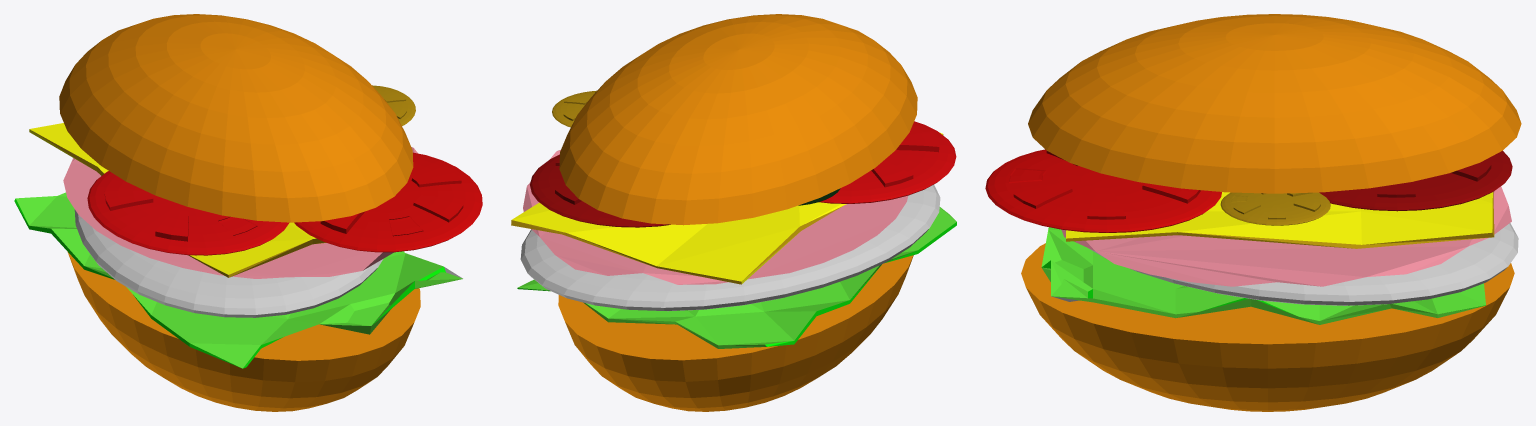
The model's file is culito.obj.
3 renders of one model, left to right at view 1: azimuth 30°, elevation 25°; view 2: azimuth 150°, elevation 25°; view 3: azimuth 270°, elevation 25°, orthographic. The views are drawn at different scales.
Visible parts, largest first — view 1: skp28D7-Entity43860; view 2: skp28D7-Entity43860; view 3: skp28D7-Entity43860.
Part boxes in pixels (x1,y1,x2,y2): skp28D7-Entity43860: [14, 14, 482, 411]; skp28D7-Entity43860: [511, 14, 956, 411]; skp28D7-Entity43860: [985, 14, 1521, 411].
Bounding box in the file's own units: 2.17 × 2.01 × 2.72.
